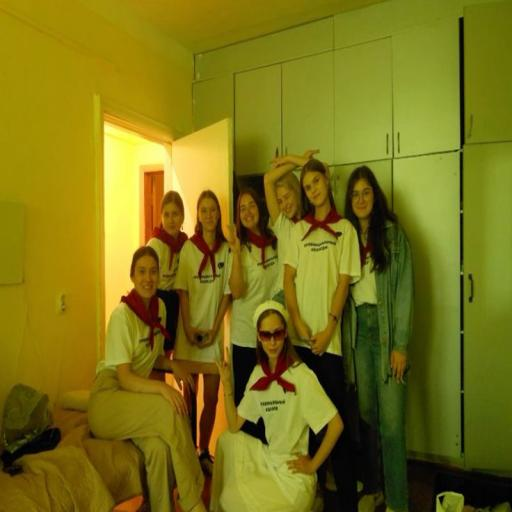car: (191, 3, 511, 477)
corridor: (394, 152, 461, 459), (464, 143, 511, 470), (334, 38, 393, 164), (172, 118, 233, 235), (144, 170, 164, 243)
person: (0, 407, 146, 511)
